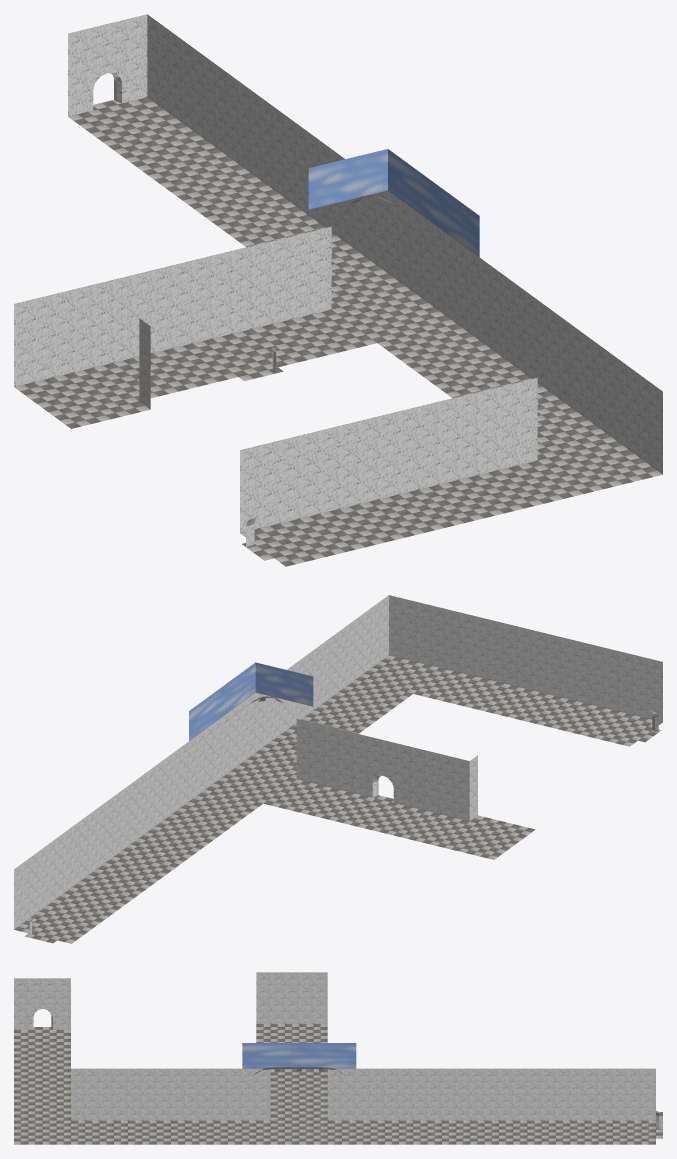
The model's file is Hallway3.glb.
3 renders of one model, top to bottom at view 1: azimuth 30°, elevation 25°; view 2: azimuth 150°, elevation 25°; view 3: azimuth 270°, elevation 25°, orthographic. The views are drawn at different scales.
Parts seen in each view (by area): view 1: Walls.002, Floor.002, Sky.002; view 2: Walls.002, Floor.002, Sky.002; view 3: Walls.002, Floor.002, Sky.002.
Part boxes in pixels (bbox=[...]): Walls.002: bbox=[14, 14, 662, 546]; Floor.002: bbox=[14, 97, 662, 566]; Sky.002: bbox=[308, 149, 479, 256]; Walls.002: bbox=[14, 595, 662, 937]; Floor.002: bbox=[14, 655, 662, 943]; Sky.002: bbox=[189, 662, 313, 740]; Walls.002: bbox=[14, 972, 662, 1128]; Floor.002: bbox=[14, 1024, 662, 1144]; Sky.002: bbox=[242, 1043, 356, 1068].
Size of the model in its own units: 20.02 by 6 by 45.5.
4 materials, 4 textured.
